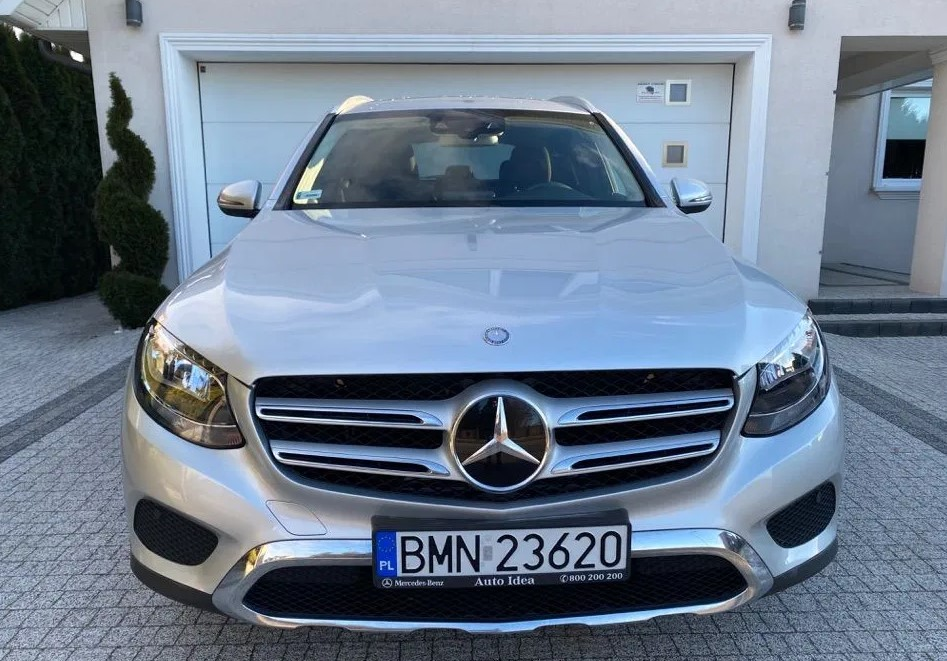number_plate: (362, 506, 646, 601)
